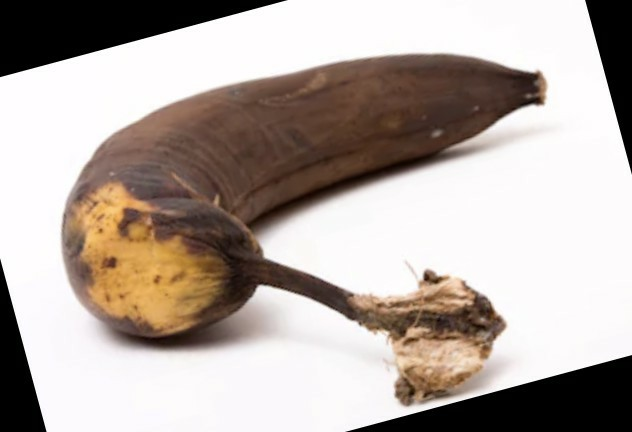rotten_banana: (61, 52, 549, 389)
